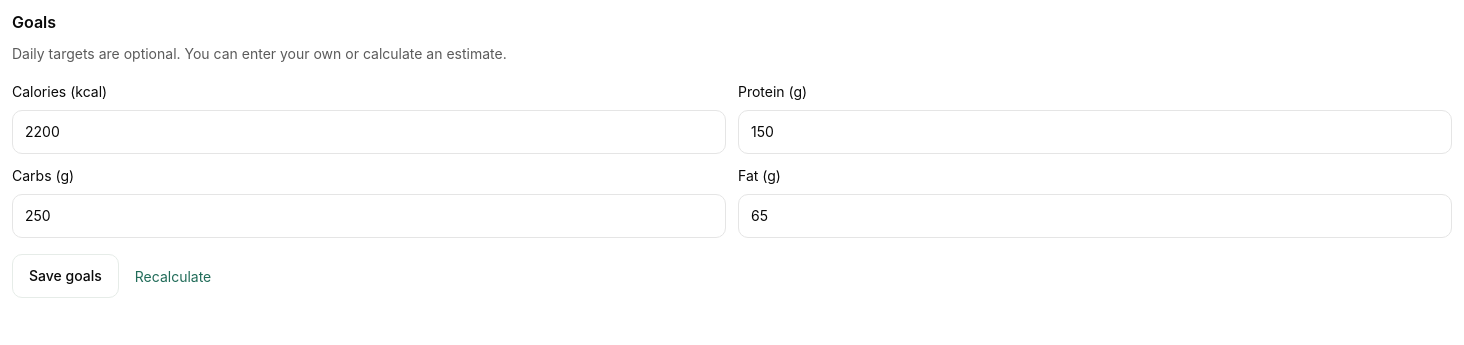
Test: saves entered targets without overwriting them after a failed save
This screenshot has width=1464, height=345.
Replace the text in the number field labelled "Calories (kcal)" with "2300" at (369,132), box top-left (12, 110), bottom-right (726, 154)
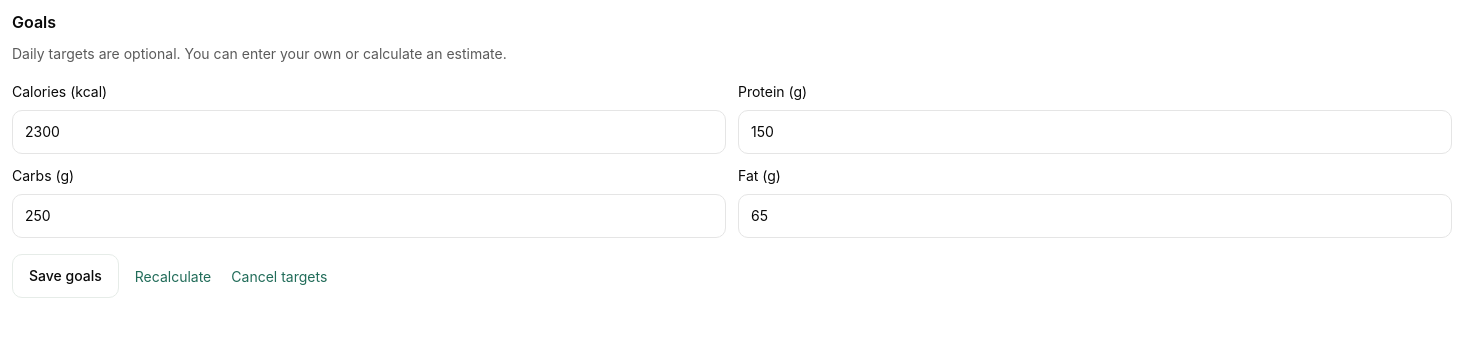
Click the button "Save goals" at (65,276), box top-left (12, 254), bottom-right (119, 298)
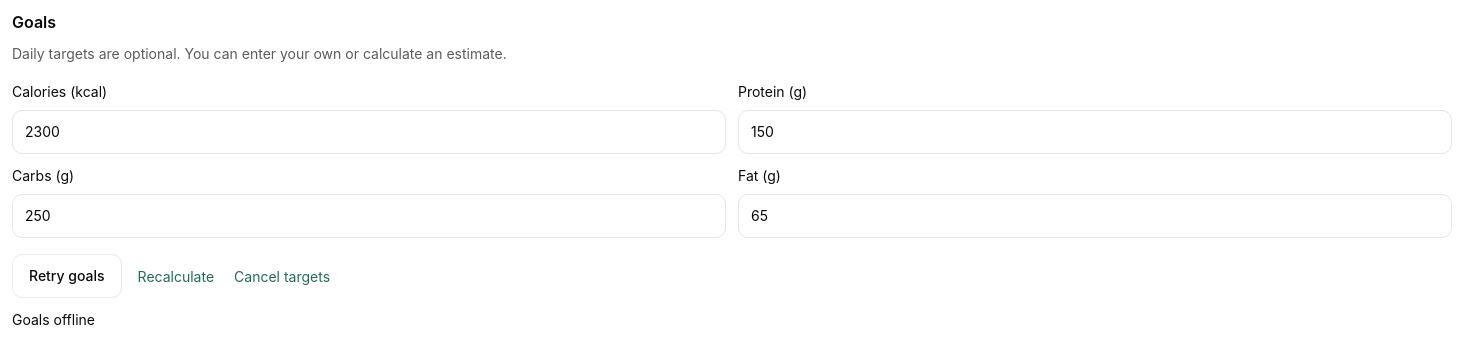
Expected: the text "Goals offline" is shown, top-left (12, 311), bottom-right (95, 328)
Click the button "Retry goals" at (67,276), box top-left (12, 254), bottom-right (122, 298)
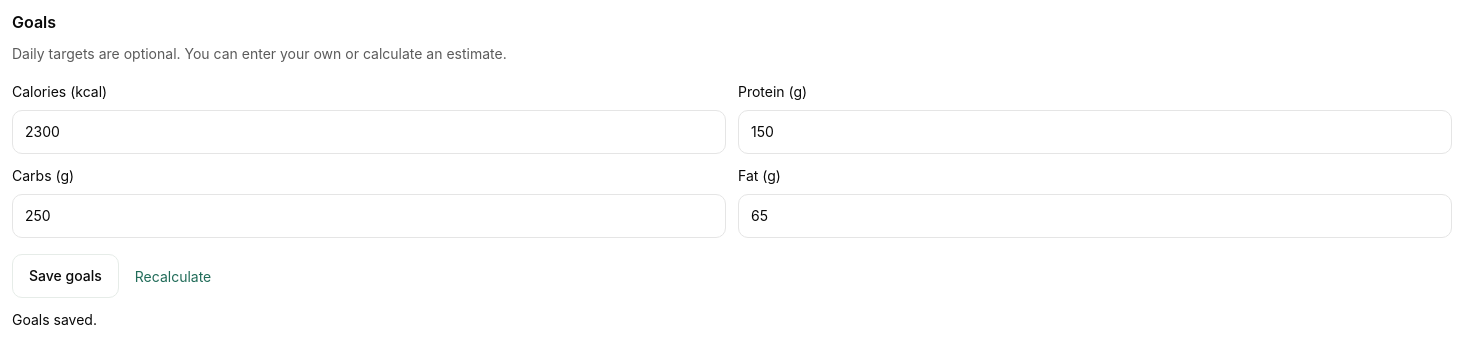
Expected: the text "Goals saved." is shown, top-left (12, 311), bottom-right (97, 328)
